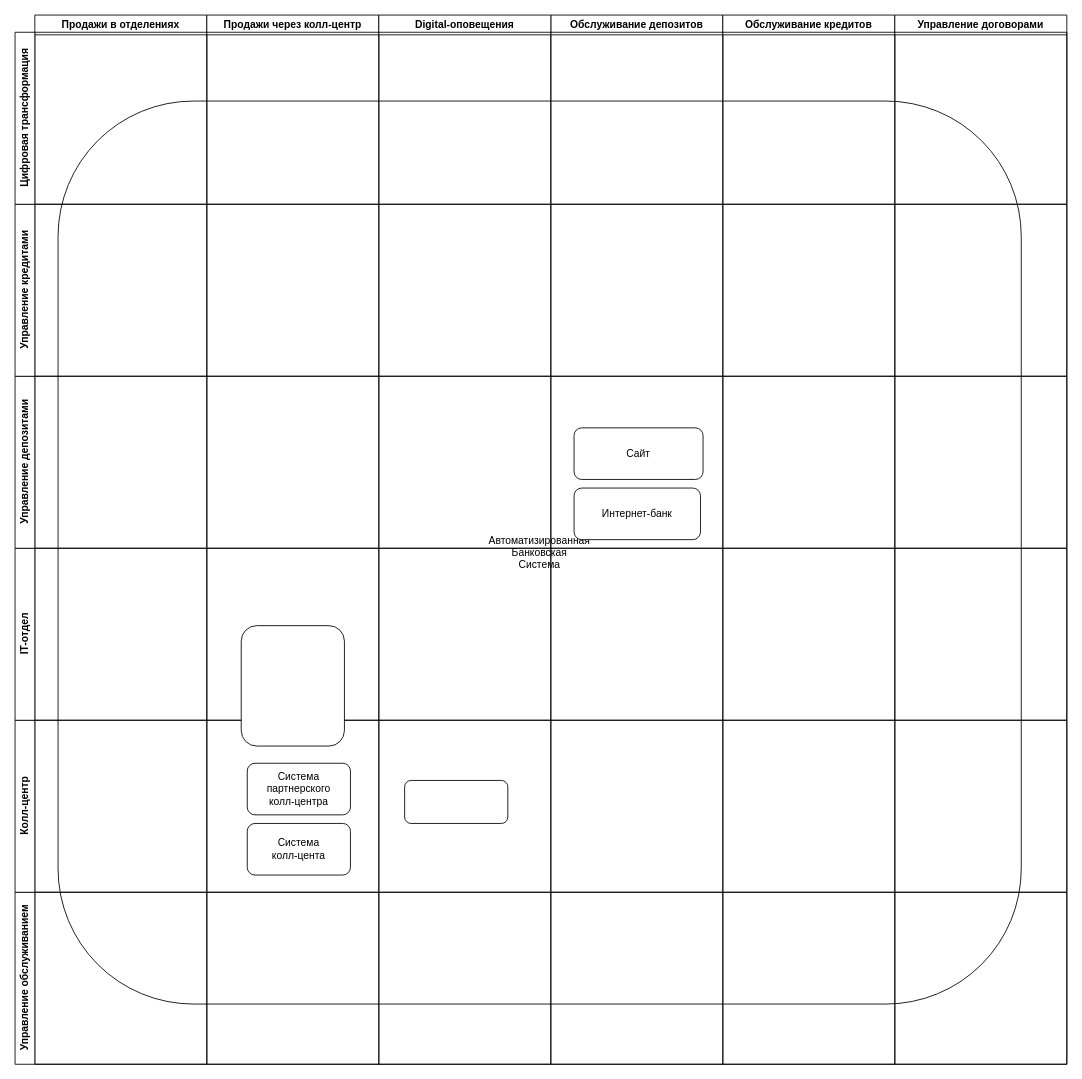
Image size: 1082x1079. Some labels were removed from this diagram. The box of each missing label's shape, as (x1, y1, x2, y2) in pixels:
CMS шлюз: (240, 625, 344, 746)
Телеком оператор: (404, 780, 508, 823)
